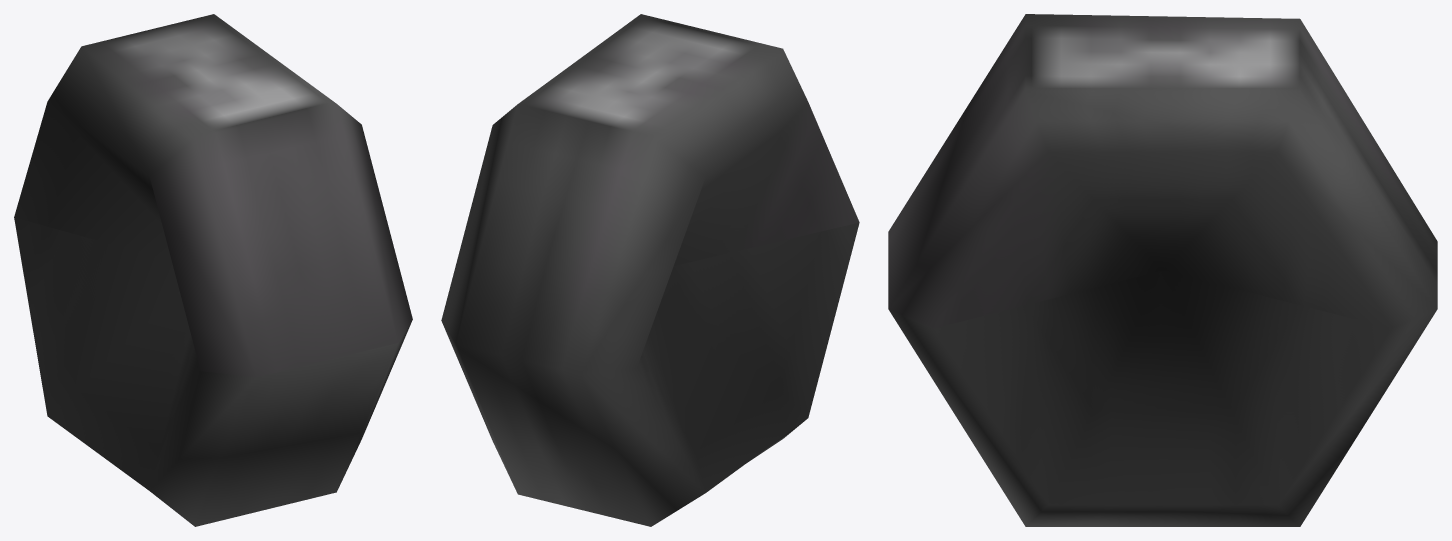
Rendered from batch_0073.obj.
The picture shows the model from 3 angles, left to right: view 1: azimuth 30°, elevation 25°; view 2: azimuth 150°, elevation 25°; view 3: azimuth 270°, elevation 25°; orthographic projection. The views are drawn at different scales.
Parts seen in each view (by area): view 1: batch_0073; view 2: batch_0073; view 3: batch_0073.
Boxes of the visible parts, <box> form: batch_0073: <box>14,14,412,526</box>; batch_0073: <box>441,14,859,526</box>; batch_0073: <box>888,14,1437,526</box>.
Size of the model in its own units: 6 by 10.5 by 12.
Materials: 1 (1 with a texture image).
